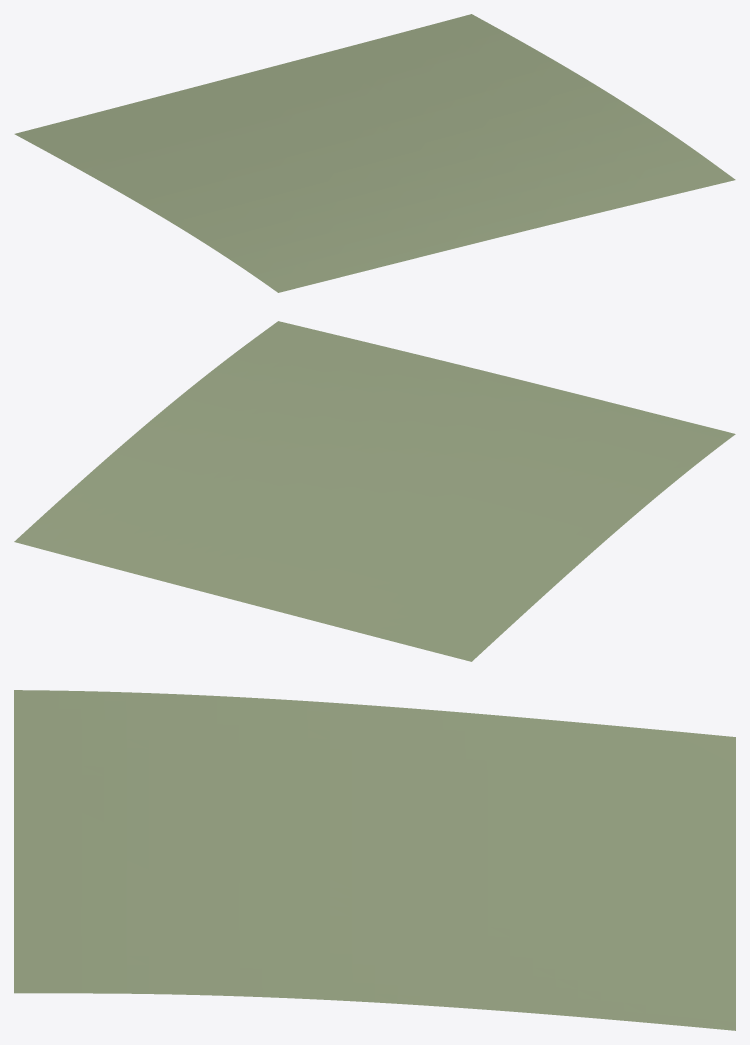
File: desert-7-27.glb
3 renders of one model, top to bottom at view 1: azimuth 30°, elevation 25°; view 2: azimuth 150°, elevation 25°; view 3: azimuth 270°, elevation 25°, orthographic. The views are drawn at different scales.
Visible parts, largest first — view 1: desert-7-27; view 2: desert-7-27; view 3: desert-7-27.
Boxes of the visible parts, x1,y1,x2,y2 form: desert-7-27: (14,14,735,292); desert-7-27: (14,321,735,661); desert-7-27: (14,690,735,1030).
Size of the model in its own units: 512 by 38.72 by 512.
